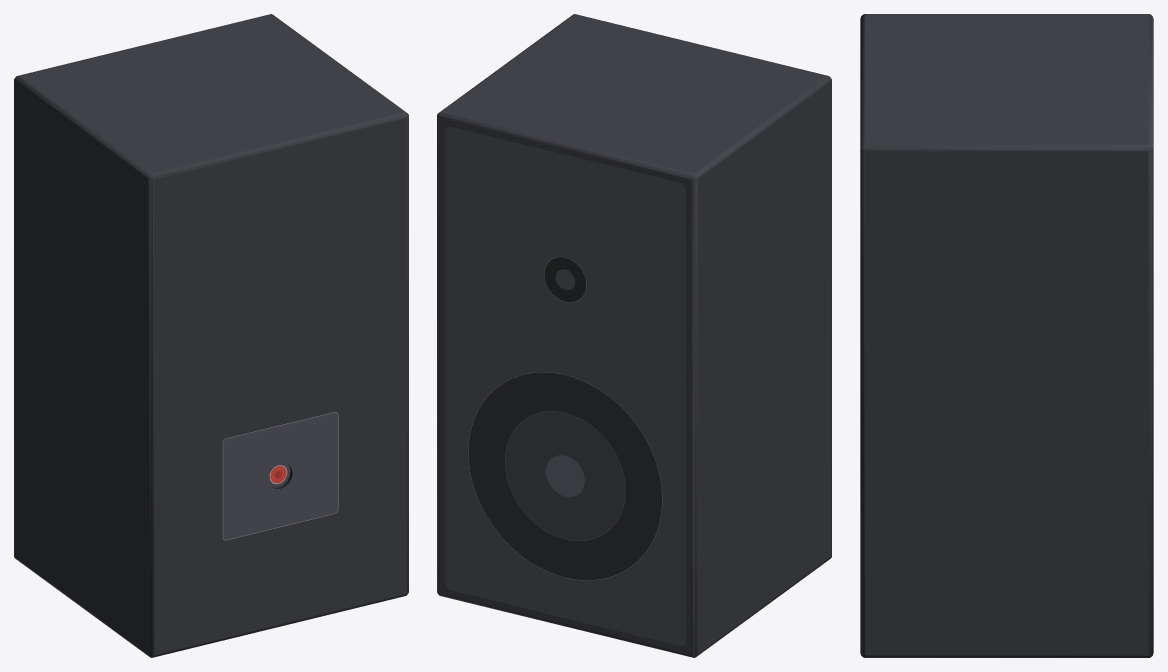
Rendered from yamaha-ns-10m.glb.
3 views of the same model, side by side, from view 1: azimuth 30°, elevation 25°; view 2: azimuth 150°, elevation 25°; view 3: azimuth 270°, elevation 25° (orthographic). The views are drawn at different scales.
Parts seen in each view (by area): view 1: yamaha-ns-10m-body; view 2: yamaha-ns-10m-body; view 3: yamaha-ns-10m-body.
Part boxes in pixels (bbox=[...]): yamaha-ns-10m-body: bbox=[14, 14, 408, 657]; yamaha-ns-10m-body: bbox=[437, 14, 831, 657]; yamaha-ns-10m-body: bbox=[860, 14, 1153, 657].
Bounding box in the file's own units: 0.215 × 0.3815 × 0.1975.
Materials: 1 (1 with a texture image).
